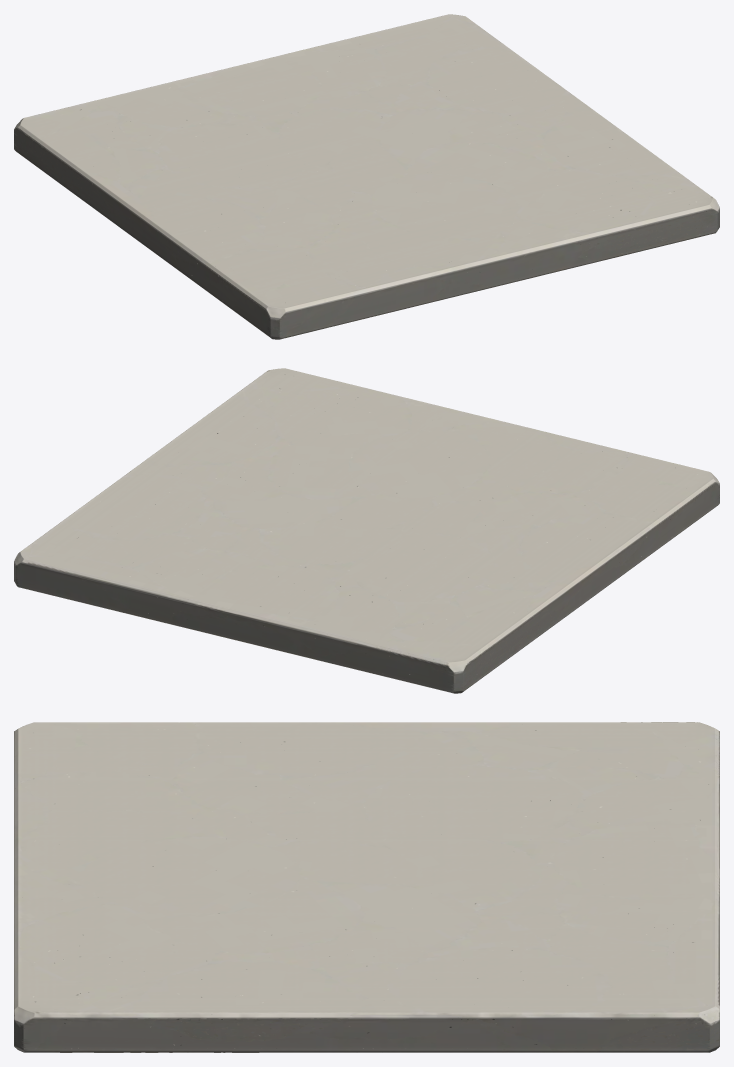
File: model-23-floor-tile.glb
The picture shows the model from 3 angles, top to bottom: view 1: azimuth 30°, elevation 25°; view 2: azimuth 150°, elevation 25°; view 3: azimuth 270°, elevation 25°; orthographic projection. The views are drawn at different scales.
Parts seen in each view (by area): view 1: node_0; view 2: node_0; view 3: node_0.
Boxes of the visible parts, box(x1,y1,x2,y2) form: node_0: box(14, 14, 719, 339); node_0: box(14, 368, 719, 693); node_0: box(14, 722, 719, 1052).
Bounding box in the file's own units: 0.8528 × 0.0543 × 0.8663.
1 material, 1 textured.
